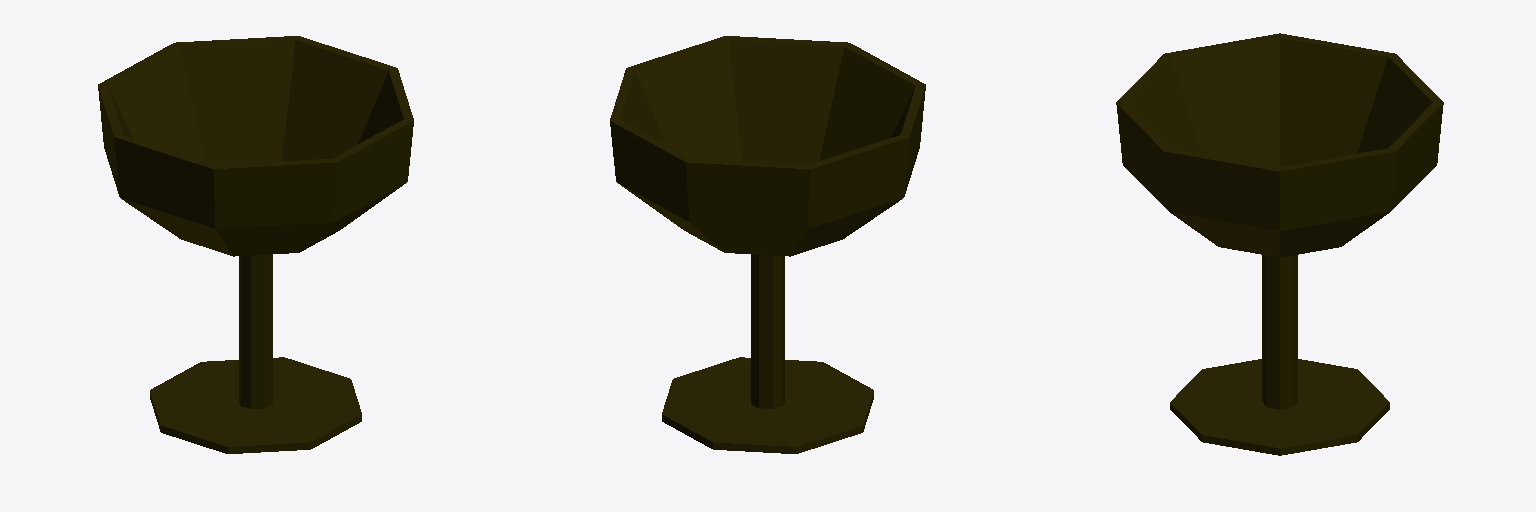
The model's file is Cup_01.obj.
3 renders of one model, left to right at view 1: azimuth 30°, elevation 25°; view 2: azimuth 150°, elevation 25°; view 3: azimuth 270°, elevation 25°, orthographic.
Visible parts, largest first — view 1: Cup_01_Circle; view 2: Cup_01_Circle; view 3: Cup_01_Circle.
Part boxes in pixels (x1,y1,x2,y2): Cup_01_Circle: (98, 36, 413, 453); Cup_01_Circle: (610, 36, 925, 453); Cup_01_Circle: (1116, 33, 1443, 455).
Bounding box in the file's own units: 0.2008 × 0.2077 × 0.2008.